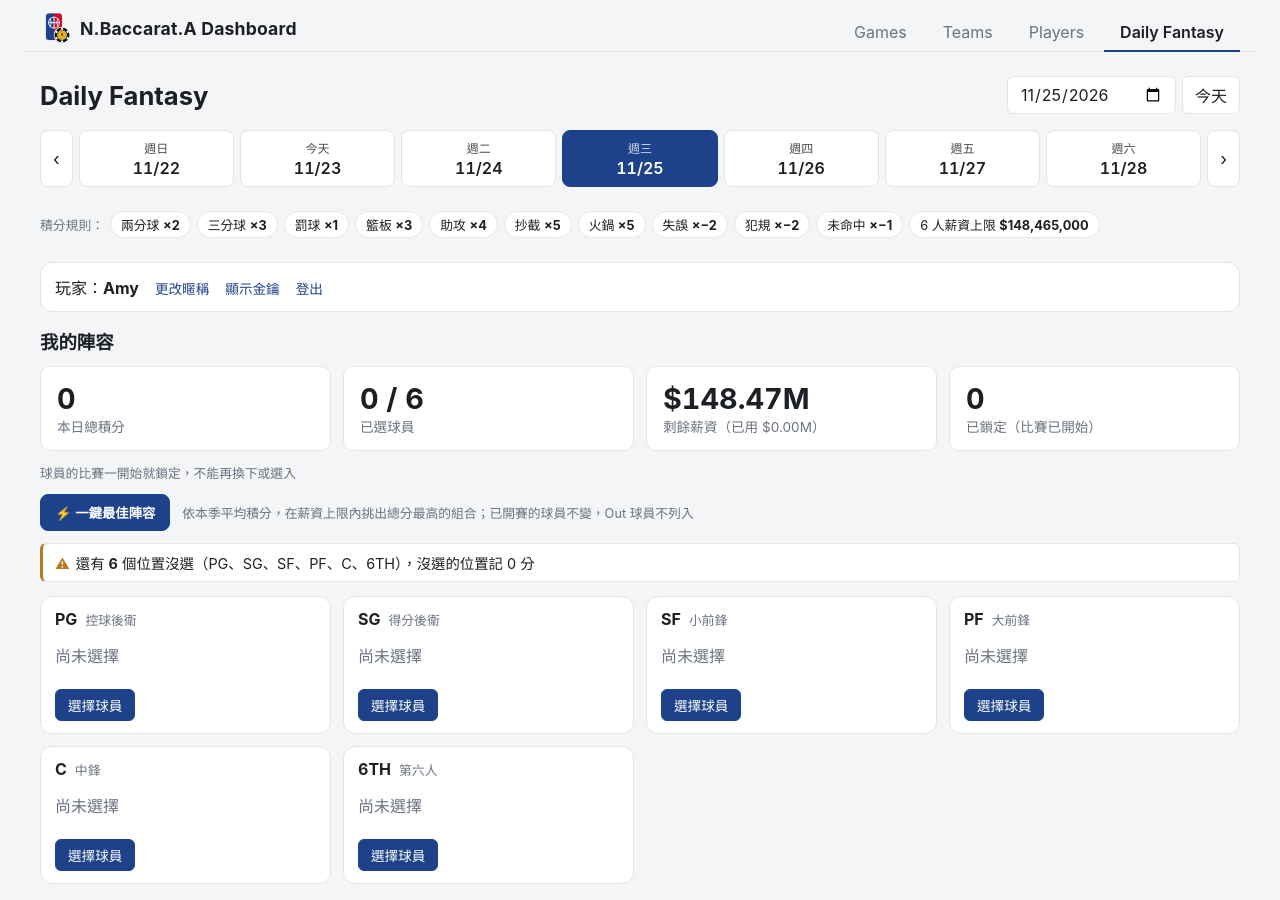
Test case: the picker shows recent form and can sort by it
What coordinates should you click on to do the following:
click the button "選擇球員" below "控球後衛"
I would click on:
 (95, 705)
Its box is [55,689,135,721].
(page scrolled)
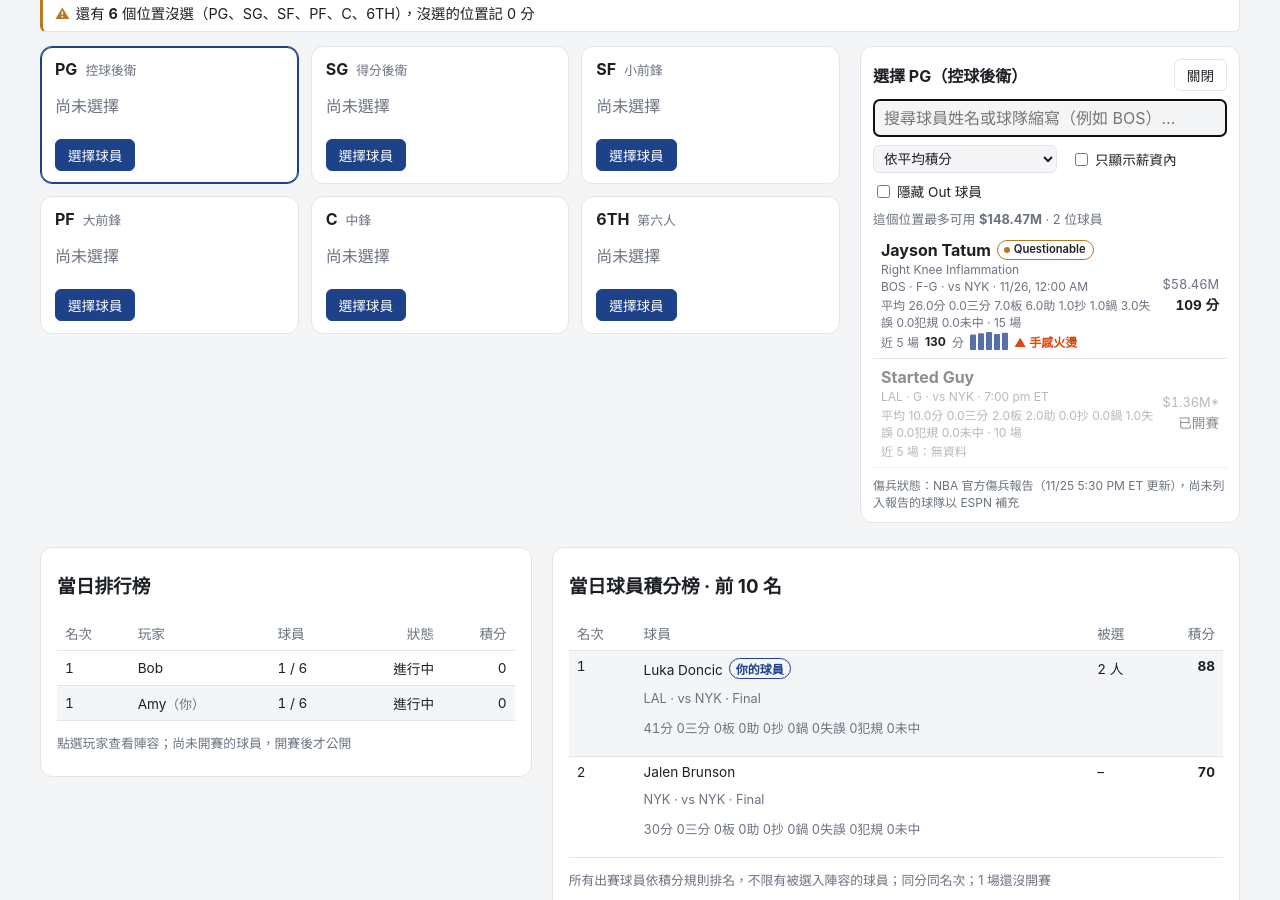
expect the text "近 5 場 130 分 ▲ 手感火燙" is shown: met, box [881,332,1077,350]
expect the text "▲ 手感火燙" is shown: met, box [1014,332,1077,350]
expect the text "近 5 場：無資料" is shown: met, box [881,444,967,459]
